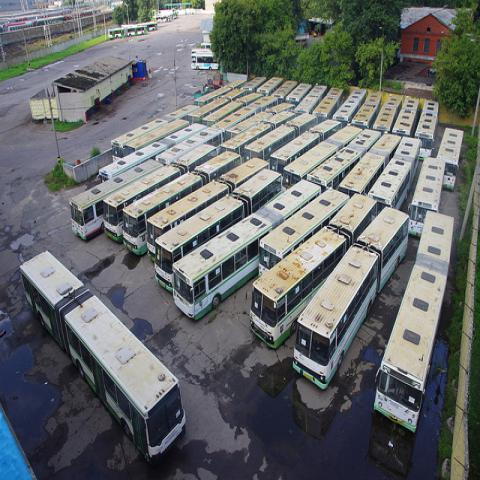bus: (97, 0, 465, 389), (19, 249, 186, 464), (170, 178, 322, 321), (250, 192, 377, 349), (374, 211, 456, 435), (153, 194, 246, 293), (68, 156, 164, 244), (259, 186, 349, 276), (120, 168, 206, 258), (101, 165, 182, 246), (191, 48, 220, 70), (256, 76, 284, 97), (225, 79, 247, 91), (201, 42, 211, 50)
